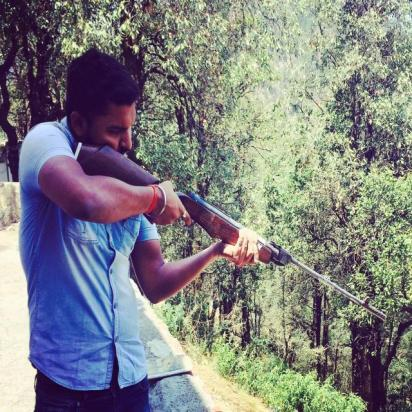Gun: (69, 137, 391, 324)
